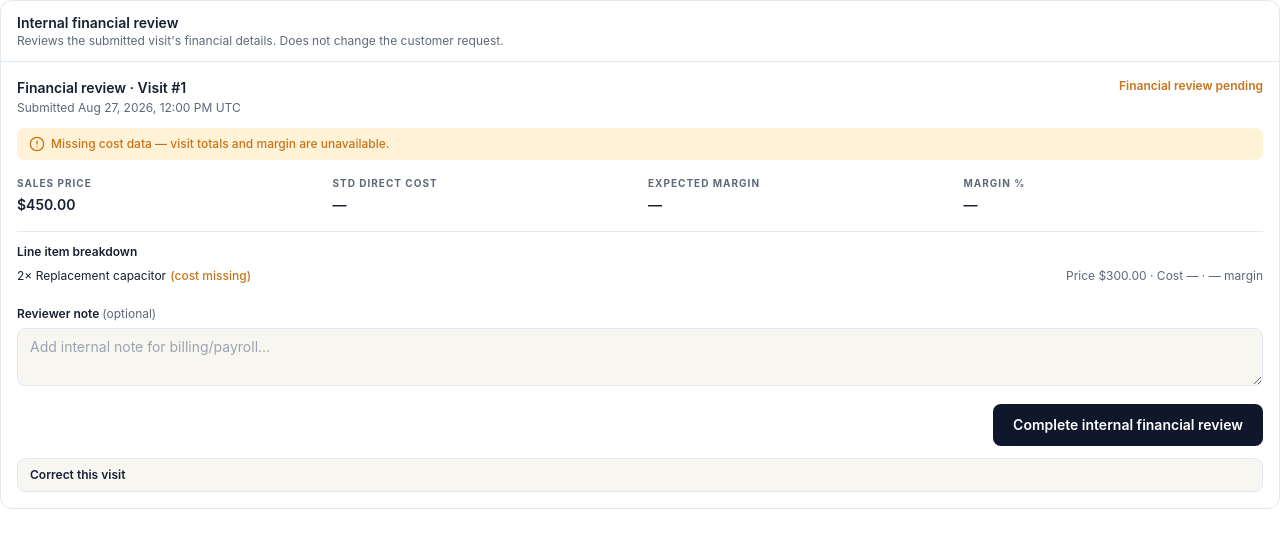
it: ActualWorkReviewCard › surfaces a conflict notice when review reconciliation reports a stale/already-reviewed visit
This screenshot has width=1280, height=554.
Click the button "Complete internal financial review" at (1128, 425), box [993,404,1263,446]
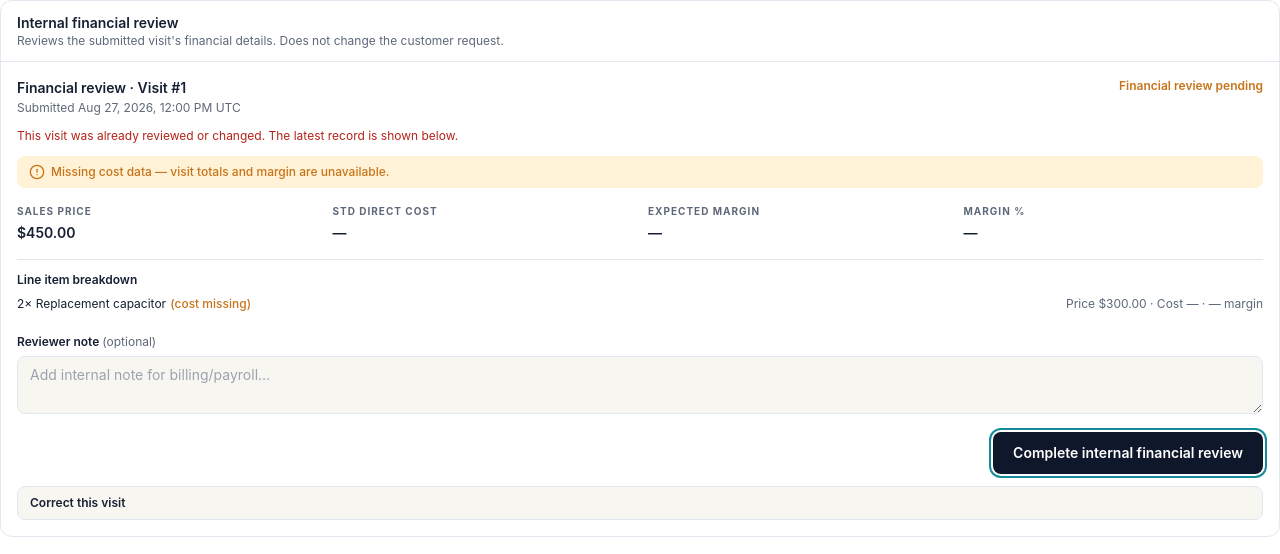
Expected: the message shows "already reviewed or changed", [17,128,458,143]
